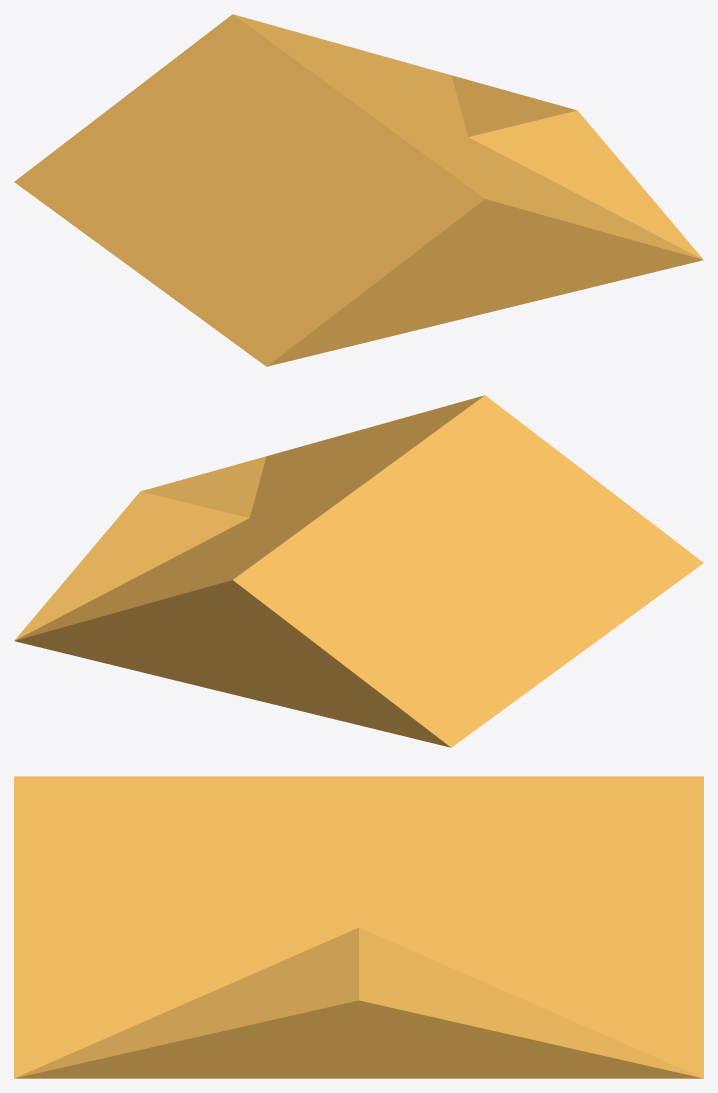
The model's file is Roof-Shallow-4x4x1-Gable-Decorative-Ridge.FBX.
3 views of the same model, one above another, from view 1: azimuth 30°, elevation 25°; view 2: azimuth 150°, elevation 25°; view 3: azimuth 270°, elevation 25° (orthographic). The views are drawn at different scales.
Visible parts, largest first — view 1: Roof-Shallow-4x4x1-Gable-Decorative-Ridge; view 2: Roof-Shallow-4x4x1-Gable-Decorative-Ridge; view 3: Roof-Shallow-4x4x1-Gable-Decorative-Ridge.
Part boxes in pixels (left/top/right/bottom): Roof-Shallow-4x4x1-Gable-Decorative-Ridge: left=14, top=14, right=703, bottom=366; Roof-Shallow-4x4x1-Gable-Decorative-Ridge: left=14, top=395, right=703, bottom=747; Roof-Shallow-4x4x1-Gable-Decorative-Ridge: left=14, top=776, right=703, bottom=1078.
Bounding box in the file's own units: 40 × 40 × 10.
